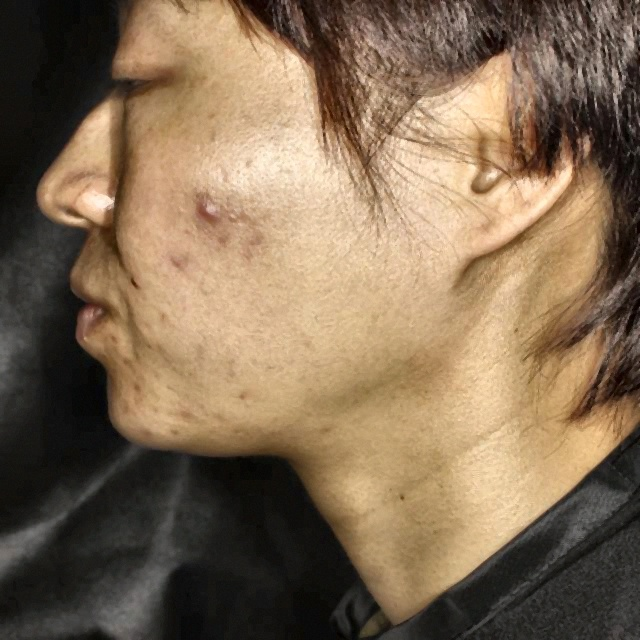comedone: (184, 193, 224, 227), (126, 269, 148, 295), (165, 248, 186, 273)
